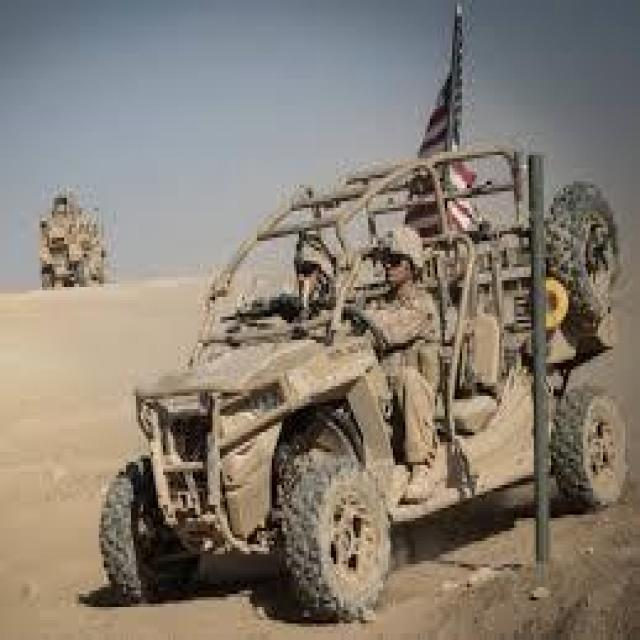Tanks: (86, 81, 618, 618), (32, 154, 156, 338)
